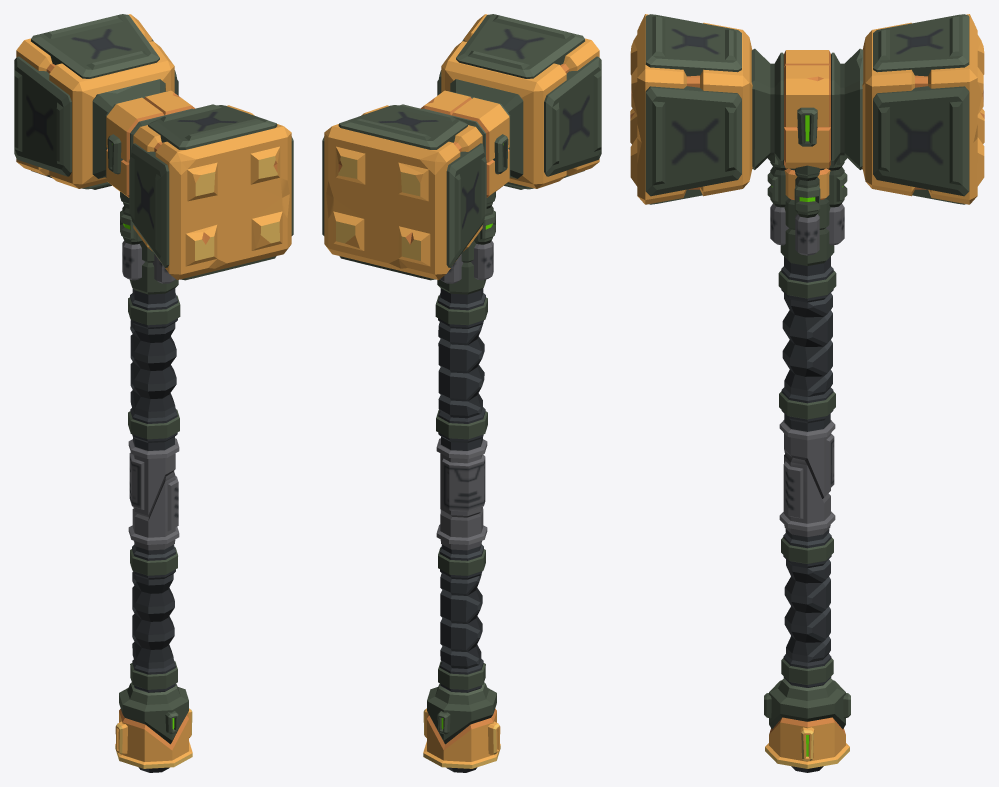
The model's file is SM_Wep_Hammer_02.fbx.
The picture shows the model from 3 angles, left to right: view 1: azimuth 30°, elevation 25°; view 2: azimuth 150°, elevation 25°; view 3: azimuth 270°, elevation 25°; orthographic projection. The views are drawn at different scales.
Parts seen in each view (by area): view 1: SM_Wep_Hammer_02; view 2: SM_Wep_Hammer_02; view 3: SM_Wep_Hammer_02.
Boxes of the visible parts, <box> form: SM_Wep_Hammer_02: <box>14,14,293,772</box>; SM_Wep_Hammer_02: <box>322,14,601,772</box>; SM_Wep_Hammer_02: <box>630,14,984,772</box>.
Size of the model in its own units: 82.29 by 399 by 175.
